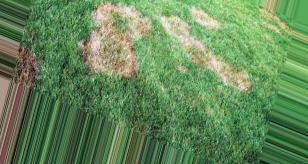patch: (92, 26, 135, 75), (103, 9, 204, 29)
